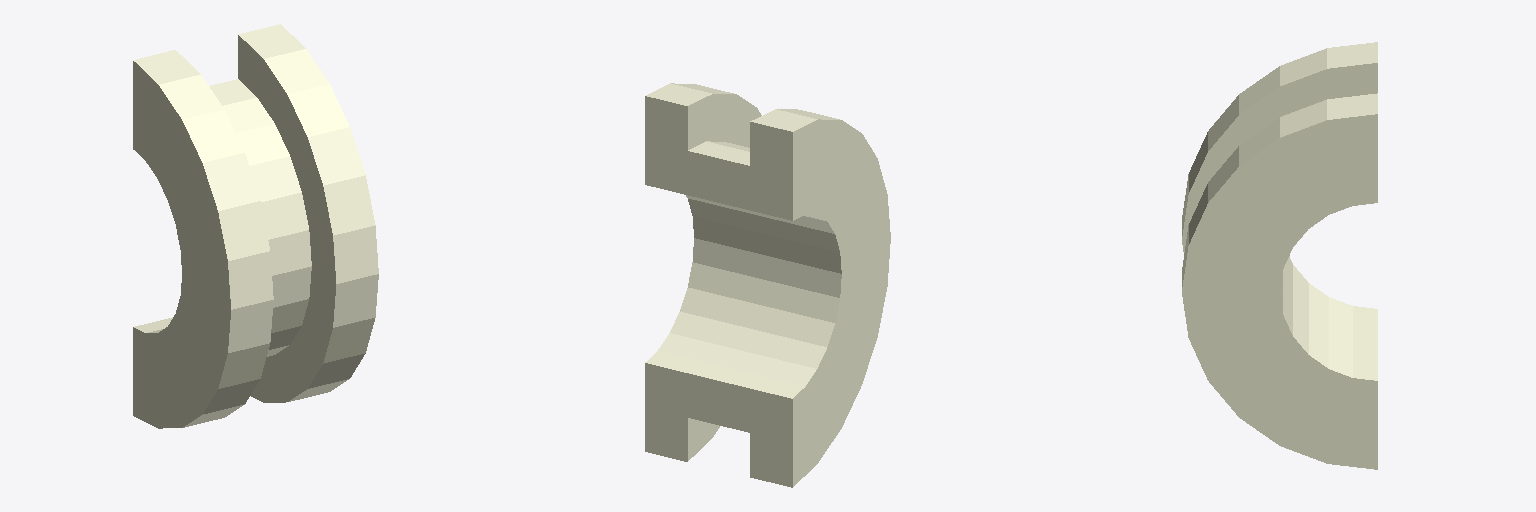
The model's file is section_009.obj.
3 views of the same model, side by side, from view 1: azimuth 30°, elevation 25°; view 2: azimuth 150°, elevation 25°; view 3: azimuth 270°, elevation 25° (orthographic).
Size of the model in its own units: 3.47 by 8 by 4.